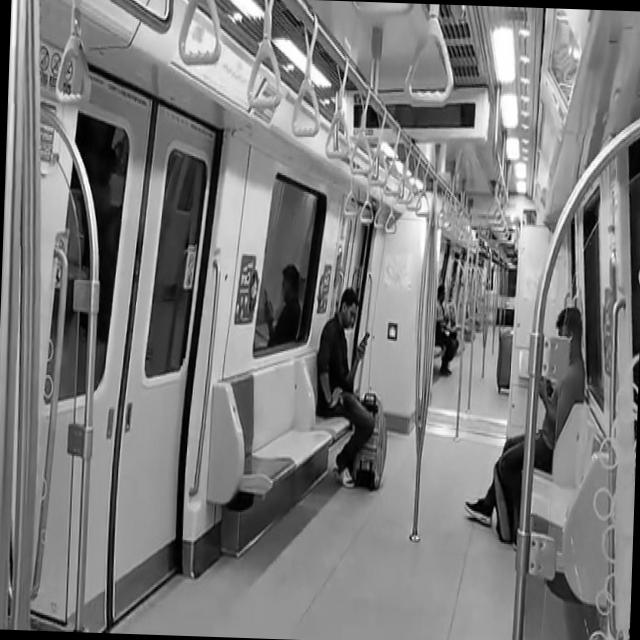bus-door: (75, 74, 215, 629), (31, 171, 88, 620)
